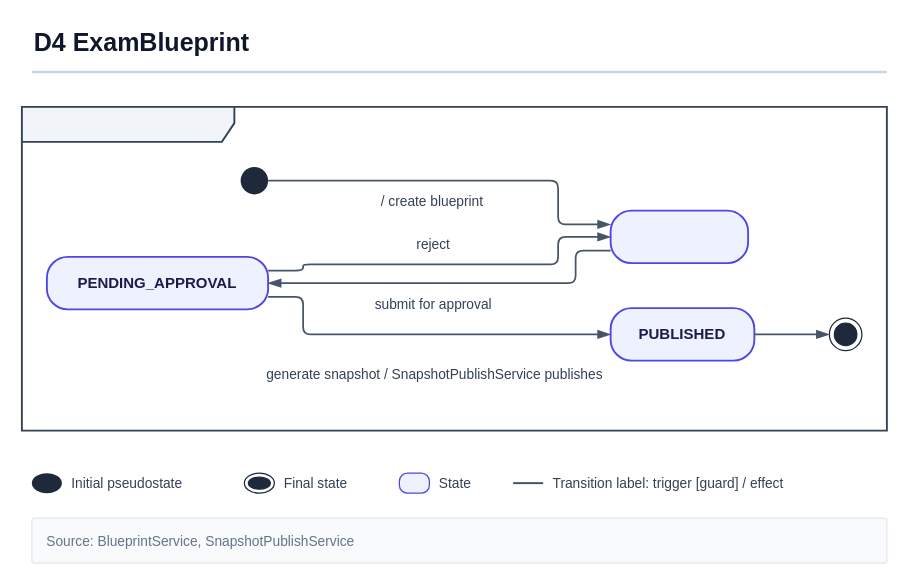
This 910x585 diagram has some shape labels left out. The box of each missing label's shape, as (x1, y1, x2, y2) in pixels:
DRAFT: (609, 209, 748, 264)
stm ExamBlueprint: (20, 105, 887, 431)
